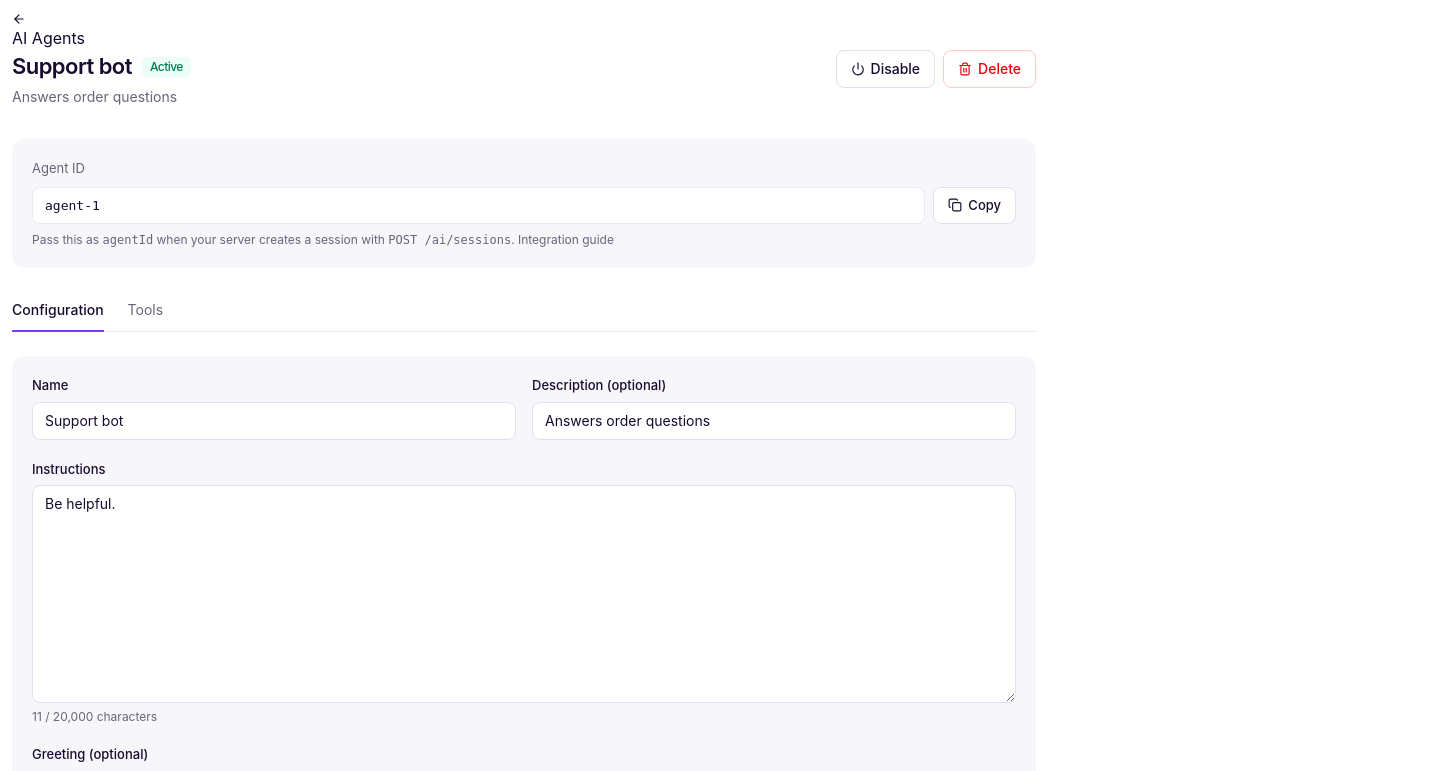
agent page › shows the agent id to copy and no playground tab
Expected: the text with test id "agent-id" reads "agent-1", left=45, top=198, right=100, bottom=212
Step 1. Click the button "Copy" → (975, 205), box left=933, top=187, right=1016, bottom=224
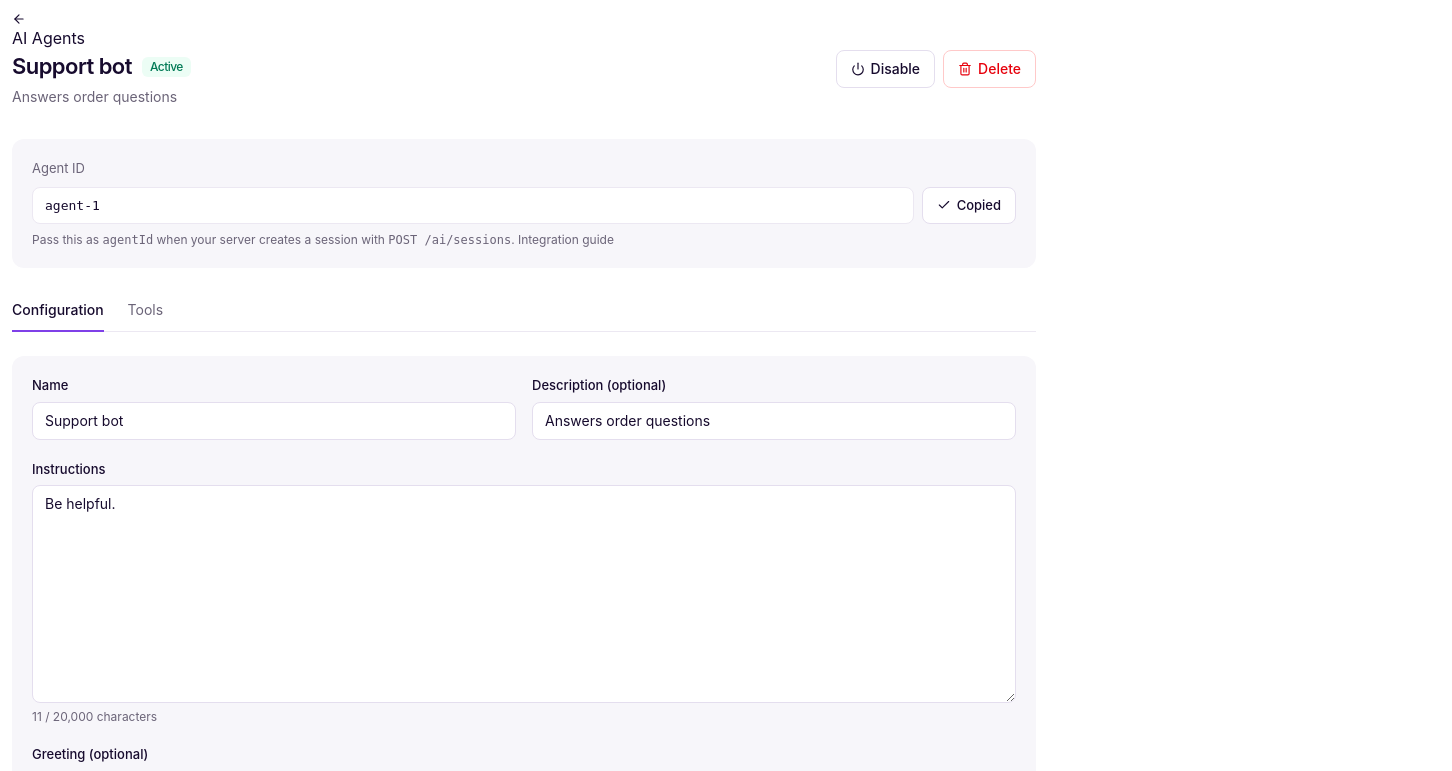
Expected: the button "Copied" is shown, left=922, top=187, right=1016, bottom=224
